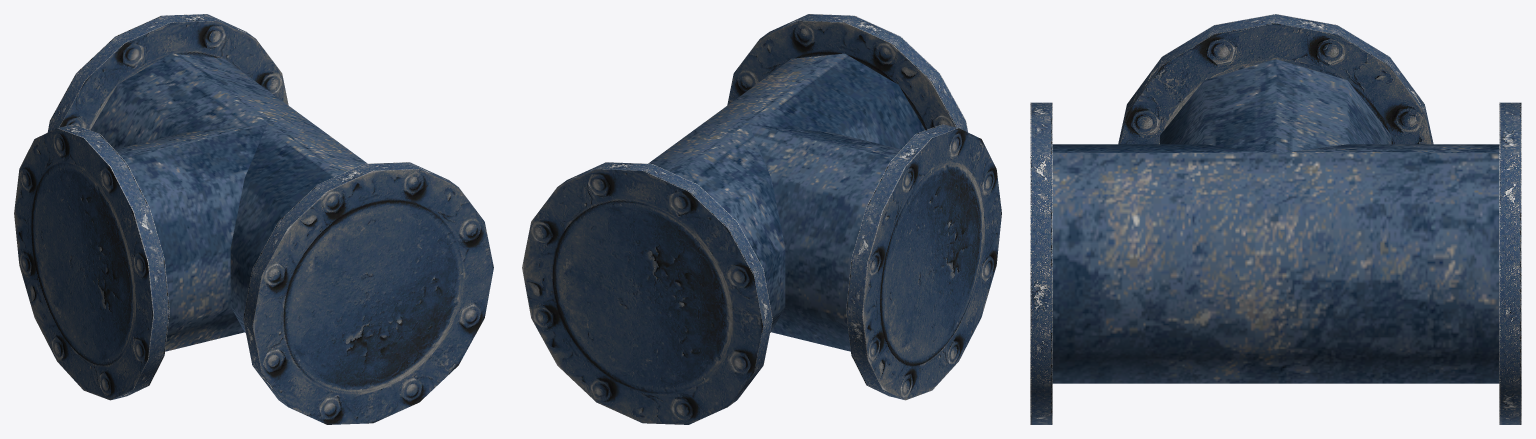
The model's file is tjoint_blue.DAE.
The picture shows the model from 3 angles, left to right: view 1: azimuth 30°, elevation 25°; view 2: azimuth 150°, elevation 25°; view 3: azimuth 270°, elevation 25°; orthographic projection. The views are drawn at different scales.
Visible parts, largest first — view 1: Box343, Box344; view 2: Box343, Box344; view 3: Box344, Box343.
Boxes of the visible parts, x1,y1,x2,y2 form: Box343: (14, 14, 493, 424); Box344: (90, 53, 367, 351); Box343: (522, 14, 1001, 424); Box344: (648, 53, 924, 351); Box344: (1052, 59, 1499, 383); Box343: (1030, 14, 1521, 424).
Bounding box in the file's own units: 0.8282 × 1 × 0.6566.
